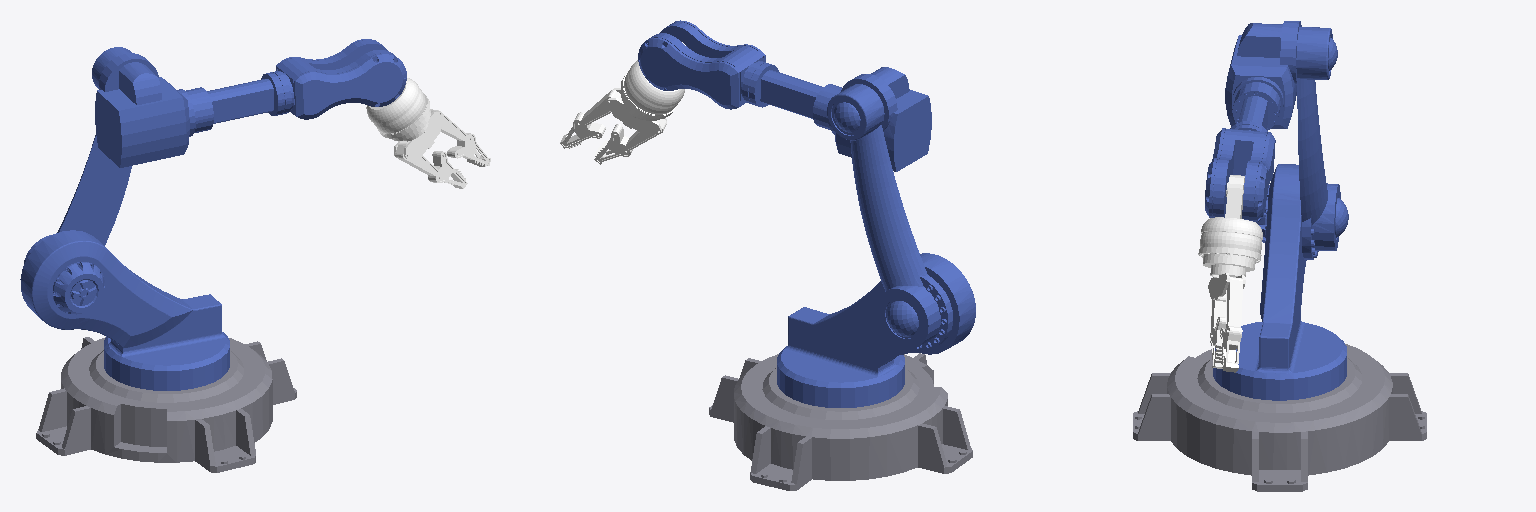
URDF robot description (Assem1_URDF.SLDASM):
<?xml version="1.0" encoding="utf-8"?>
<!-- This URDF was automatically created by SolidWorks to URDF Exporter! Originally created by [author] ([email redacted]) 
     Commit Version: 1.6.0-4-g7f85cfe  Build Version: 1.6.7995.38578
     For more information, please see http://wiki.ros.org/sw_urdf_exporter -->
<robot
  name="Assem1_URDF.SLDASM">
  <link
    name="base_link">
    <inertial>
      <origin
        xyz="0.10131 0.16693 0.3385"
        rpy="0 0 0" />
      <mass
        value="5.7724" />
      <inertia
        ixx="0.036499"
        ixy="-4.1268E-05"
        ixz="-0.00079967"
        iyy="0.066642"
        iyz="4.1268E-05"
        izz="0.036499" />
    </inertial>
    <visual>
      <origin
        xyz="0 0 0"
        rpy="0 0 0" />
      <geometry>
        <mesh
          filename="package://Assem1_URDF.SLDASM/meshes/base_link.STL" />
      </geometry>
      <material
        name="">
        <color
          rgba="0.58824 0.58824 0.63137 1" />
      </material>
    </visual>
    <collision>
      <origin
        xyz="0 0 0"
        rpy="0 0 0" />
      <geometry>
        <mesh
          filename="package://Assem1_URDF.SLDASM/meshes/base_link.STL" />
      </geometry>
    </collision>
  </link>
  <link
    name="Link_1">
    <inertial>
      <origin
        xyz="-0.057064984118576 0.0829209010452518 0.00277896515407494"
        rpy="0 0 0" />
      <mass
        value="2.31027394820331" />
      <inertia
        ixx="0.0119417076861415"
        ixy="0.00907949021341234"
        ixz="0.000475906381838008"
        iyy="0.0162358265233681"
        iyz="-0.000416694398602164"
        izz="0.023782323189073" />
    </inertial>
    <visual>
      <origin
        xyz="0 0 0"
        rpy="0 0 0" />
      <geometry>
        <mesh
          filename="package://Assem1_URDF.SLDASM/meshes/Link_1.STL" />
      </geometry>
      <material
        name="">
        <color
          rgba="0.380392156862745 0.47843137254902 0.788235294117647 1" />
      </material>
    </visual>
    <collision>
      <origin
        xyz="0 0 0"
        rpy="0 0 0" />
      <geometry>
        <mesh
          filename="package://Assem1_URDF.SLDASM/meshes/Link_1.STL" />
      </geometry>
    </collision>
  </link>
  <joint
    name="Joint0"
    type="revolute">
    <origin
      xyz="0.099882 -0.33993 0.21222"
      rpy="1.5708 0 -0.098579" />
    <parent
      link="base_link" />
    <child
      link="Link_1" />
    <axis
      xyz="0 1 0" />
    <limit
      lower="0"
      upper="0"
      effort="0"
      velocity="0" />
  </joint>
  <link
    name="Link_2">
    <inertial>
      <origin
        xyz="-0.11789 0.036262 0.0051971"
        rpy="0 0 0" />
      <mass
        value="0.84163" />
      <inertia
        ixx="0.00054049"
        ixy="-7.561E-05"
        ixz="0.00010256"
        iyy="0.012983"
        iyz="2.2435E-05"
        izz="0.012736" />
    </inertial>
    <visual>
      <origin
        xyz="0 0 0"
        rpy="0 0 0" />
      <geometry>
        <mesh
          filename="package://Assem1_URDF.SLDASM/meshes/Link_2.STL" />
      </geometry>
      <material
        name="">
        <color
          rgba="0.38039 0.47843 0.78824 1" />
      </material>
    </visual>
    <collision>
      <origin
        xyz="0 0 0"
        rpy="0 0 0" />
      <geometry>
        <mesh
          filename="package://Assem1_URDF.SLDASM/meshes/Link_2.STL" />
      </geometry>
    </collision>
  </link>
  <joint
    name="Join1"
    type="revolute">
    <origin
      xyz="-0.15 0.16 0"
      rpy="-1.5708 0 -1.8953" />
    <parent
      link="Link_1" />
    <child
      link="Link_2" />
    <axis
      xyz="0 1 0" />
    <limit
      lower="0"
      upper="0"
      effort="0"
      velocity="0" />
  </joint>
  <link
    name="Link_3">
    <inertial>
      <origin
        xyz="0.0346158826892752 0.0385370280154284 -0.0261599642530471"
        rpy="0 0 0" />
      <mass
        value="1.29268368596562" />
      <inertia
        ixx="0.00176598283388118"
        ixy="-0.00028913076769943"
        ixz="8.23349226130081E-05"
        iyy="0.00625982252576374"
        iyz="0.000123622362185192"
        izz="0.006649309878745" />
    </inertial>
    <visual>
      <origin
        xyz="0 0 0"
        rpy="0 0 0" />
      <geometry>
        <mesh
          filename="package://Assem1_URDF.SLDASM/meshes/Link_3.STL" />
      </geometry>
      <material
        name="">
        <color
          rgba="0.380392156862745 0.47843137254902 0.788235294117647 1" />
      </material>
    </visual>
    <collision>
      <origin
        xyz="0 0 0"
        rpy="0 0 0" />
      <geometry>
        <mesh
          filename="package://Assem1_URDF.SLDASM/meshes/Link_3.STL" />
      </geometry>
    </collision>
  </link>
  <joint
    name="Join2"
    type="revolute">
    <origin
      xyz="-0.3 0 0"
      rpy="1.5708 -1.2233 3.1416" />
    <parent
      link="Link_2" />
    <child
      link="Link_3" />
    <axis
      xyz="0 0 1" />
    <limit
      lower="0"
      upper="0"
      effort="0"
      velocity="0" />
  </joint>
  <link
    name="Link_4">
    <inertial>
      <origin
        xyz="-0.10943 3.0697E-11 8.5846E-11"
        rpy="0 0 0" />
      <mass
        value="0.61716" />
      <inertia
        ixx="0.00057314"
        ixy="1.9846E-12"
        ixz="3.3304E-12"
        iyy="0.0021414"
        iyz="-1.2541E-11"
        izz="0.0019766" />
    </inertial>
    <visual>
      <origin
        xyz="0 0 0"
        rpy="0 0 0" />
      <geometry>
        <mesh
          filename="package://Assem1_URDF.SLDASM/meshes/Link_4.STL" />
      </geometry>
      <material
        name="">
        <color
          rgba="0.38039 0.47843 0.78824 1" />
      </material>
    </visual>
    <collision>
      <origin
        xyz="0 0 0"
        rpy="0 0 0" />
      <geometry>
        <mesh
          filename="package://Assem1_URDF.SLDASM/meshes/Link_4.STL" />
      </geometry>
    </collision>
  </link>
  <joint
    name="Join3"
    type="revolute">
    <origin
      xyz="0.19145 0.045 -0.028"
      rpy="-3.0889 0 3.1416" />
    <parent
      link="Link_3" />
    <child
      link="Link_4" />
    <axis
      xyz="1 0 0" />
    <limit
      lower="0"
      upper="0"
      effort="0"
      velocity="0" />
  </joint>
  <link
    name="Link_5">
    <inertial>
      <origin
        xyz="-5.5511E-17 -1.1102E-16 0.059477"
        rpy="0 0 0" />
      <mass
        value="0.31757" />
      <inertia
        ixx="0.00032932"
        ixy="-1.8635E-20"
        ixz="-2.575E-19"
        iyy="0.00032643"
        iyz="1.7121E-19"
        izz="0.00022192" />
    </inertial>
    <visual>
      <origin
        xyz="0 0 0"
        rpy="0 0 0" />
      <geometry>
        <mesh
          filename="package://Assem1_URDF.SLDASM/meshes/Link_5.STL" />
      </geometry>
      <material
        name="">
        <color
          rgba="1 1 1 1" />
      </material>
    </visual>
    <collision>
      <origin
        xyz="0 0 0"
        rpy="0 0 0" />
      <geometry>
        <mesh
          filename="package://Assem1_URDF.SLDASM/meshes/Link_5.STL" />
      </geometry>
    </collision>
  </link>
  <joint
    name="Join4"
    type="revolute">
    <origin
      xyz="-0.16755 0 0"
      rpy="-1.4534 -1.5708 0.43561" />
    <parent
      link="Link_4" />
    <child
      link="Link_5" />
    <axis
      xyz="1 0 0" />
    <limit
      lower="0"
      upper="0"
      effort="0"
      velocity="0" />
  </joint>
  <link
    name="Link_6">
    <inertial>
      <origin
        xyz="-0.0026284 -1.1102E-16 -1.1102E-16"
        rpy="0 0 0" />
      <mass
        value="0.076424" />
      <inertia
        ixx="4.0169E-05"
        ixy="4.6587E-21"
        ixz="4.5528E-21"
        iyy="3.8067E-05"
        iyz="-1.0164E-20"
        izz="3.2004E-05" />
    </inertial>
    <visual>
      <origin
        xyz="0 0 0"
        rpy="0 0 0" />
      <geometry>
        <mesh
          filename="package://Assem1_URDF.SLDASM/meshes/Link_6.STL" />
      </geometry>
      <material
        name="">
        <color
          rgba="1 1 1 1" />
      </material>
    </visual>
    <collision>
      <origin
        xyz="0 0 0"
        rpy="0 0 0" />
      <geometry>
        <mesh
          filename="package://Assem1_URDF.SLDASM/meshes/Link_6.STL" />
      </geometry>
    </collision>
  </link>
  <joint
    name="Join5"
    type="revolute">
    <origin
      xyz="0 0 0.11291"
      rpy="1.2251 -1.5708 0" />
    <parent
      link="Link_5" />
    <child
      link="Link_6" />
    <axis
      xyz="1 0 0" />
    <limit
      lower="0"
      upper="0"
      effort="0"
      velocity="0" />
  </joint>
  <link
    name="Clams_Link_7">
    <inertial>
      <origin
        xyz="0 -0.057035 -0.050342"
        rpy="0 0 0" />
      <mass
        value="0.077346" />
      <inertia
        ixx="9.7261E-05"
        ixy="9.9738E-20"
        ixz="1.5247E-20"
        iyy="1.1423E-05"
        iyz="-1.4752E-05"
        izz="8.9519E-05" />
    </inertial>
    <visual>
      <origin
        xyz="0 0 0"
        rpy="0 0 0" />
      <geometry>
        <mesh
          filename="package://Assem1_URDF.SLDASM/meshes/Clams_Link_7.STL" />
      </geometry>
      <material
        name="">
        <color
          rgba="1 1 1 1" />
      </material>
    </visual>
    <collision>
      <origin
        xyz="0 0 0"
        rpy="0 0 0" />
      <geometry>
        <mesh
          filename="package://Assem1_URDF.SLDASM/meshes/Clams_Link_7.STL" />
      </geometry>
    </collision>
  </link>
  <joint
    name="Clamps_Joint6"
    type="revolute">
    <origin
      xyz="0.013979 0 -0.04081"
      rpy="-3.0474 0 -1.5708" />
    <parent
      link="Link_6" />
    <child
      link="Clams_Link_7" />
    <axis
      xyz="1 0 0" />
    <limit
      lower="0"
      upper="0"
      effort="0"
      velocity="0" />
  </joint>
</robot>

--- Render facts (derived) ---
The picture shows the robot from 3 angles, left to right: view 1: azimuth 30°, elevation 25°; view 2: azimuth 150°, elevation 25°; view 3: azimuth 270°, elevation 25°; orthographic projection.
Robot: Assem1_URDF.SLDASM — 8 links, 7 joints (7 revolute); root link base_link; default pose: all joints at 0.
Links seen in each view (by area): view 1: base_link, Link_1, Link_3, Link_4, Link_2, Clams_Link_7, Link_5, Link_6; view 2: base_link, Link_1, Link_2, Link_3, Link_4, Clams_Link_7, Link_5, Link_6; view 3: base_link, Link_1, Link_2, Link_3, Link_4, Link_5, Clams_Link_7, Link_6.
Link boxes in pixels (bbox=[...]): base_link: bbox=[36, 337, 296, 472]; Link_1: bbox=[20, 230, 229, 390]; Link_3: bbox=[95, 53, 291, 167]; Link_4: bbox=[276, 39, 406, 119]; Link_2: bbox=[24, 47, 131, 263]; Clams_Link_7: bbox=[395, 109, 490, 188]; Link_5: bbox=[366, 78, 429, 138]; Link_6: bbox=[392, 110, 441, 158]; base_link: bbox=[709, 353, 972, 490]; Link_1: bbox=[777, 253, 975, 407]; Link_2: bbox=[827, 84, 952, 349]; Link_3: bbox=[742, 61, 931, 171]; Link_4: bbox=[638, 20, 765, 109]; Clams_Link_7: bbox=[560, 89, 666, 164]; Link_5: bbox=[621, 42, 685, 118]; Link_6: bbox=[607, 88, 666, 133]; base_link: bbox=[1133, 344, 1426, 491]; Link_1: bbox=[1213, 164, 1346, 400]; Link_2: bbox=[1296, 27, 1348, 259]; Link_3: bbox=[1225, 21, 1301, 131]; Link_4: bbox=[1205, 128, 1275, 221]; Link_5: bbox=[1198, 175, 1262, 262]; Clams_Link_7: bbox=[1210, 277, 1242, 372]; Link_6: bbox=[1203, 256, 1255, 301].
Size in the robot's own frame: 0.7078 by 0.3905 by 0.5708 metres.
Meshes: 8 distinct files referenced, 8 mesh visuals loaded (8 binary STL).